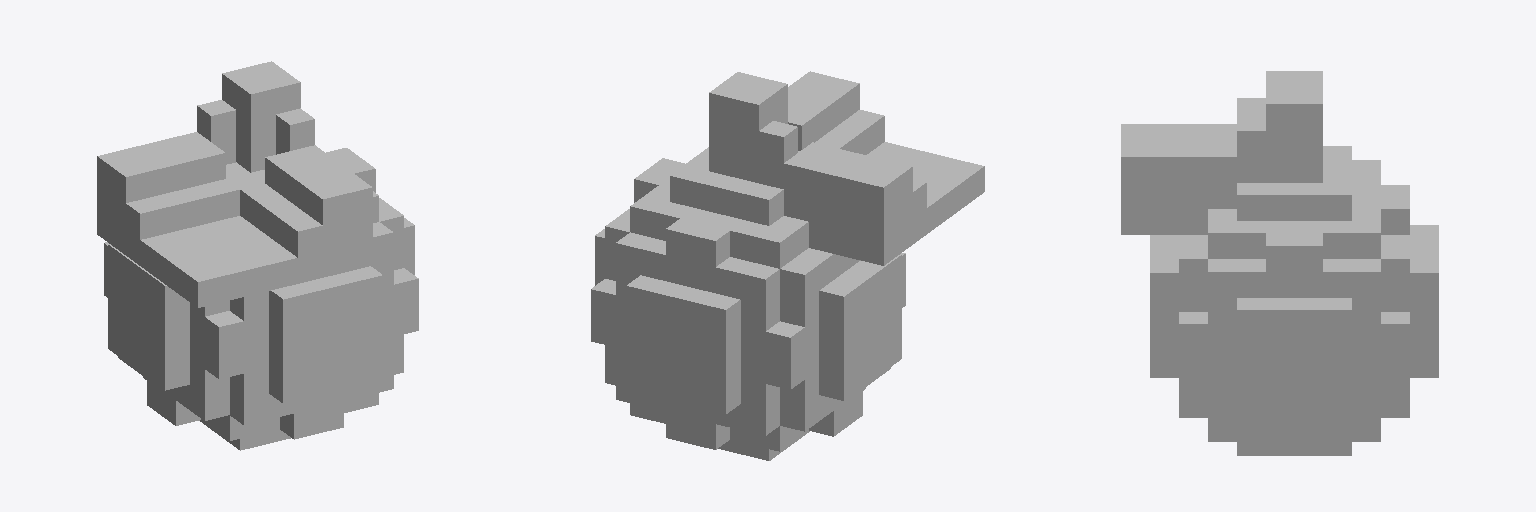
The model's file is Asteroid 03.obj.
3 renders of one model, left to right at view 1: azimuth 30°, elevation 25°; view 2: azimuth 150°, elevation 25°; view 3: azimuth 270°, elevation 25°, orthographic.
Parts seen in each view (by area): view 1: Asteroid 03; view 2: Asteroid 03; view 3: Asteroid 03.
Part boxes in pixels (x1,y1,x2,y2): Asteroid 03: (97, 61, 418, 450); Asteroid 03: (591, 71, 984, 460); Asteroid 03: (1121, 71, 1438, 455).
Size of the model in its own units: 11 by 13 by 11.